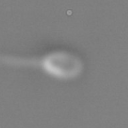normal: (1, 46, 41, 69)
